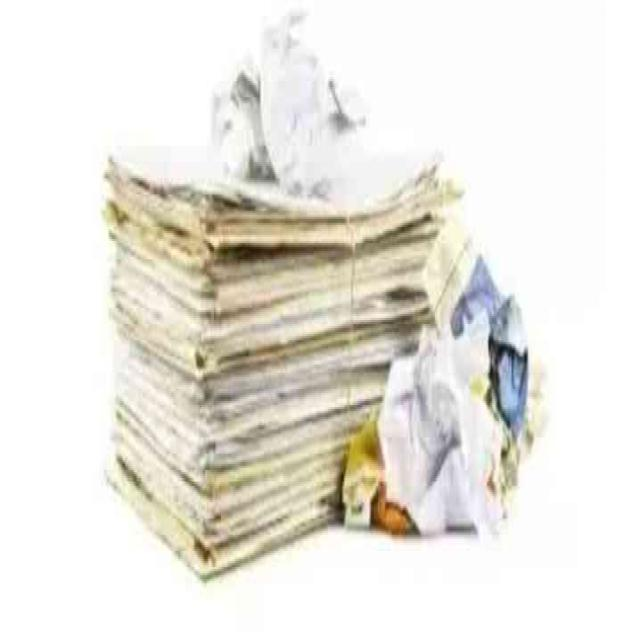Kertas: (122, 58, 564, 596)
